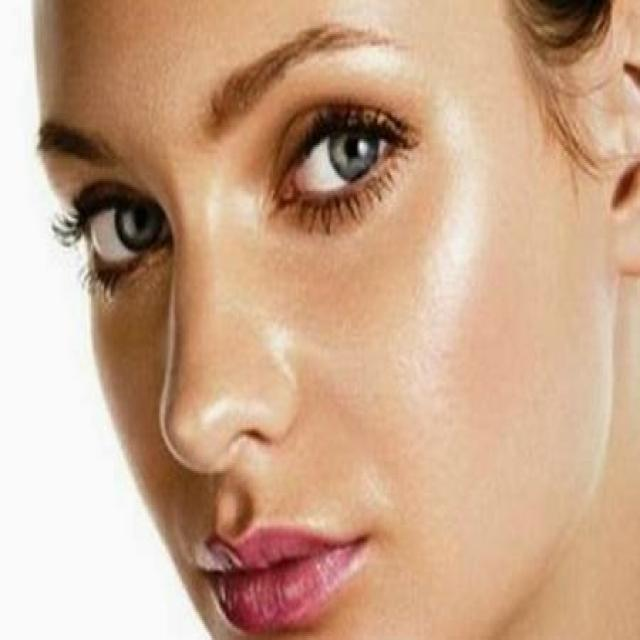Oily-Skin: (408, 85, 498, 403), (258, 320, 339, 390), (198, 171, 262, 246), (362, 464, 392, 510)
